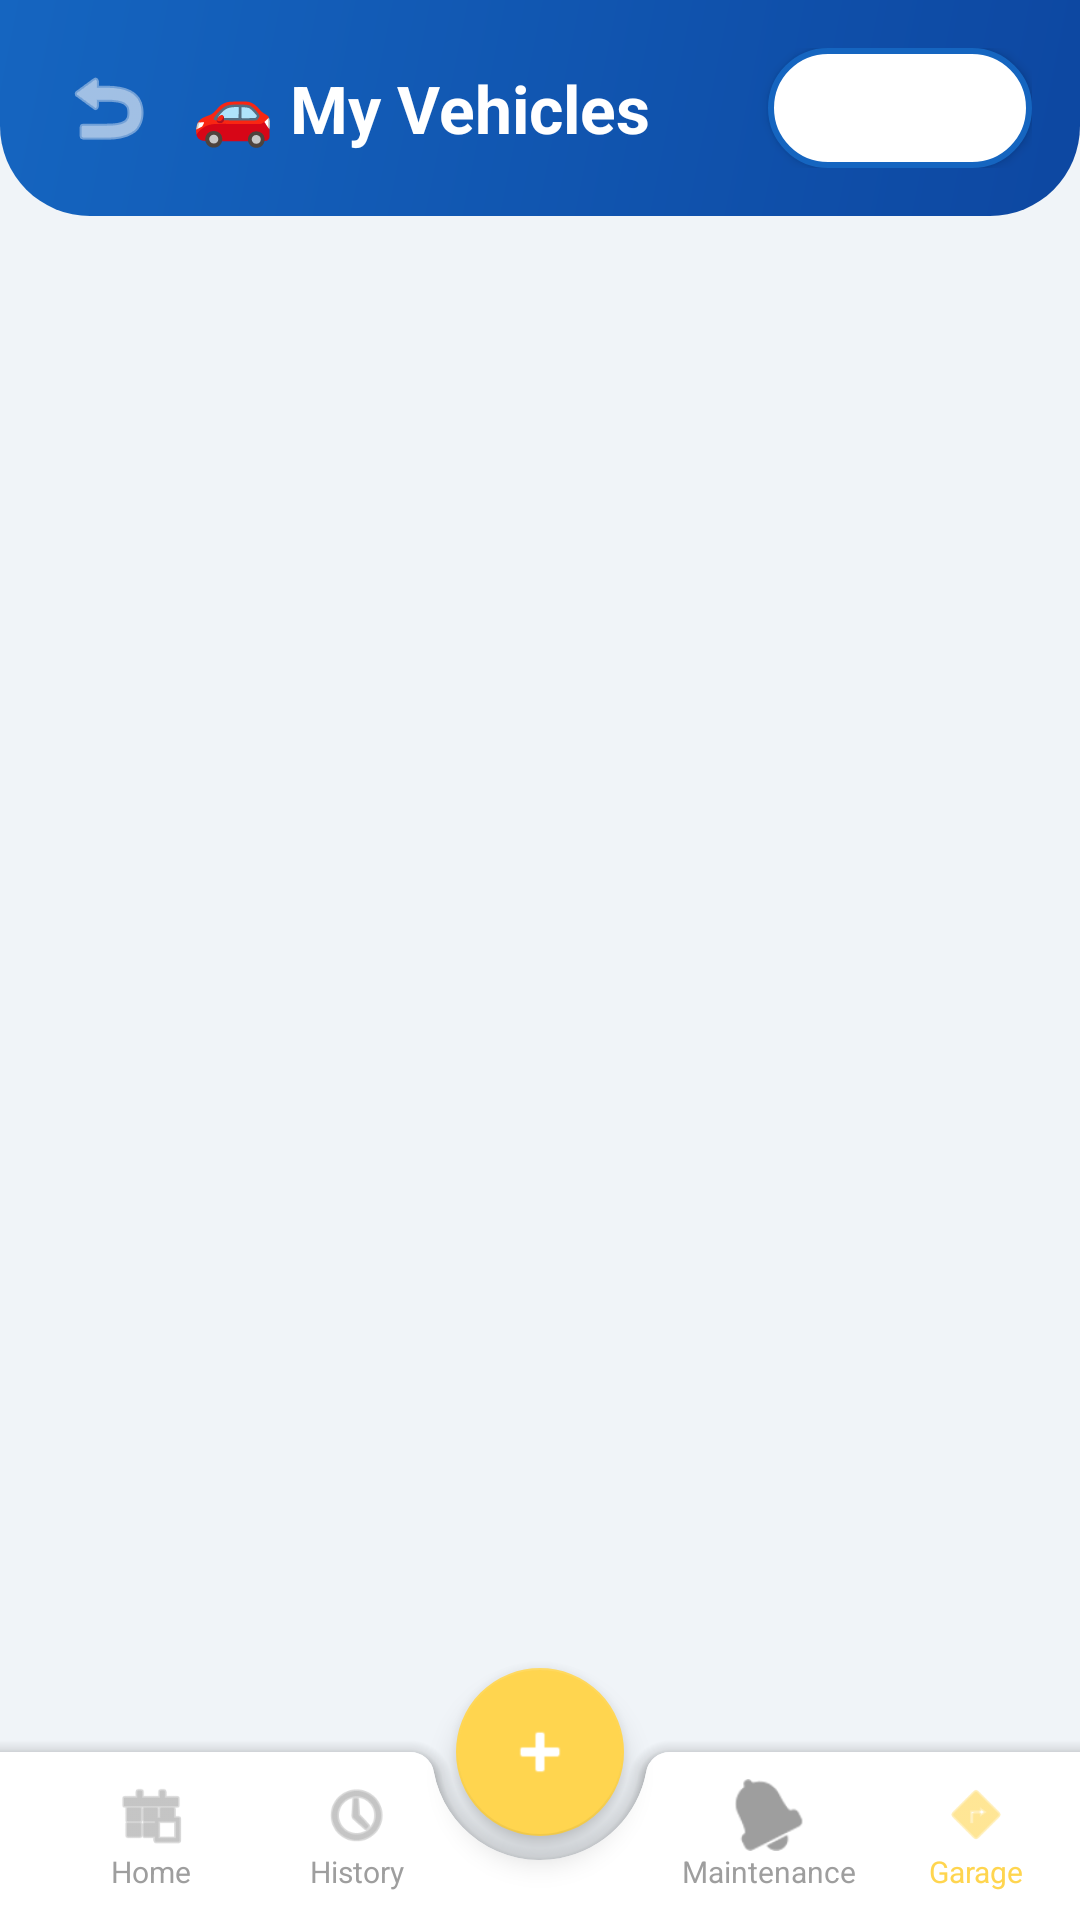

Screen size 1080 × 1920. Icon name, then its center in pixels as point (x, y):
add: point (540, 1752)
Back: point (109, 108)
directions: point (976, 1814)
popup reminder: point (769, 1815)
today: point (152, 1816)
